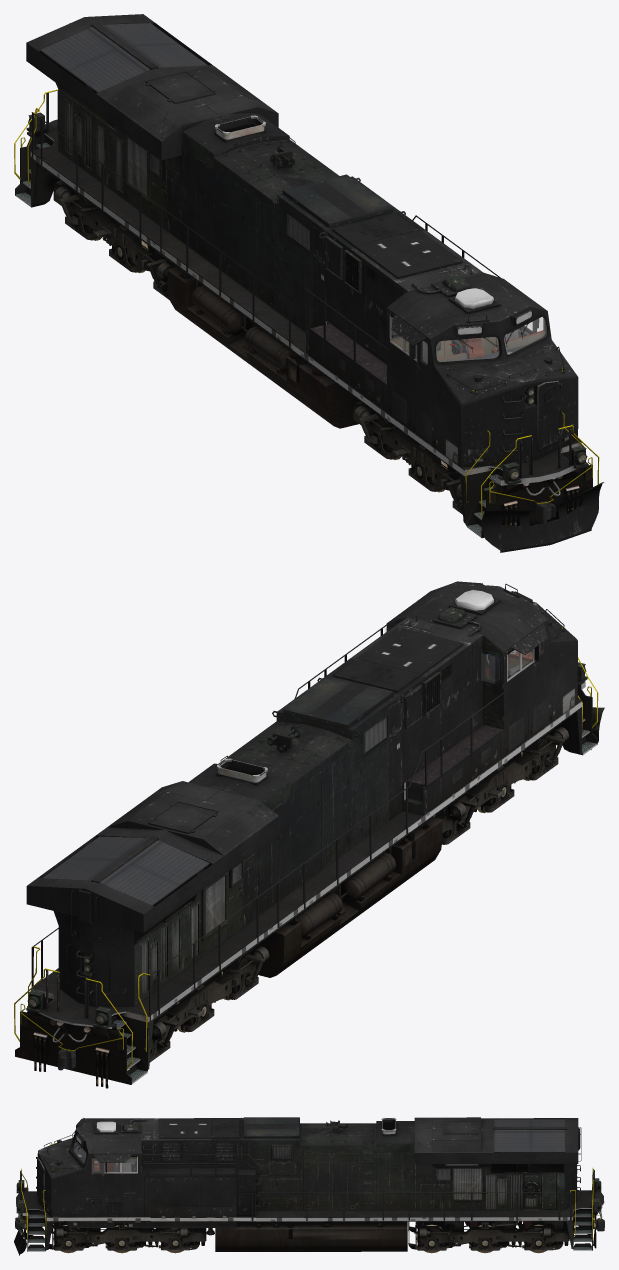
The model's file is es44ac_black.glb.
3 renders of one model, top to bottom at view 1: azimuth 30°, elevation 25°; view 2: azimuth 150°, elevation 25°; view 3: azimuth 270°, elevation 25°, orthographic. The views are drawn at different scales.
Visible parts, largest first — view 1: Body, Truck_Rear, Truck_Front; view 2: Body, Truck_Front, Truck_Rear; view 3: Body, Truck_Rear, Truck_Front.
Boxes of the visible parts, bbox=[...] form: Body: bbox=[14, 14, 604, 552]; Truck_Rear: bbox=[53, 182, 176, 299]; Truck_Front: bbox=[353, 401, 462, 514]; Body: bbox=[14, 581, 604, 1088]; Truck_Front: bbox=[434, 724, 569, 844]; Truck_Rear: bbox=[129, 943, 269, 1068]; Body: bbox=[14, 1117, 604, 1255]; Truck_Rear: bbox=[408, 1221, 569, 1250]; Truck_Front: bbox=[49, 1222, 206, 1250].
Size of the model in its own units: 3.47 by 4.99 by 21.8.
19 materials, 18 textured.
